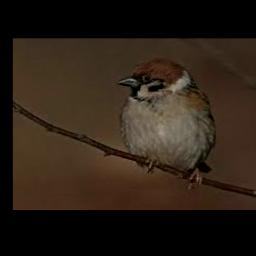Sparrow: (116, 58, 215, 188)
